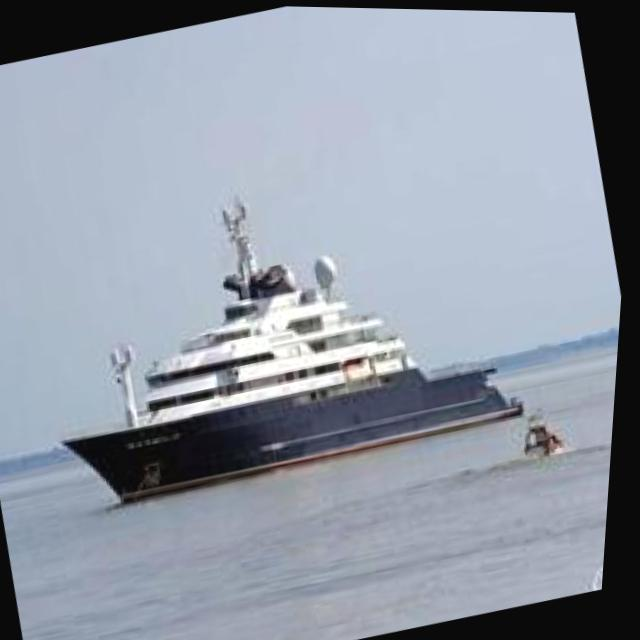ship2: (68, 198, 529, 503)
